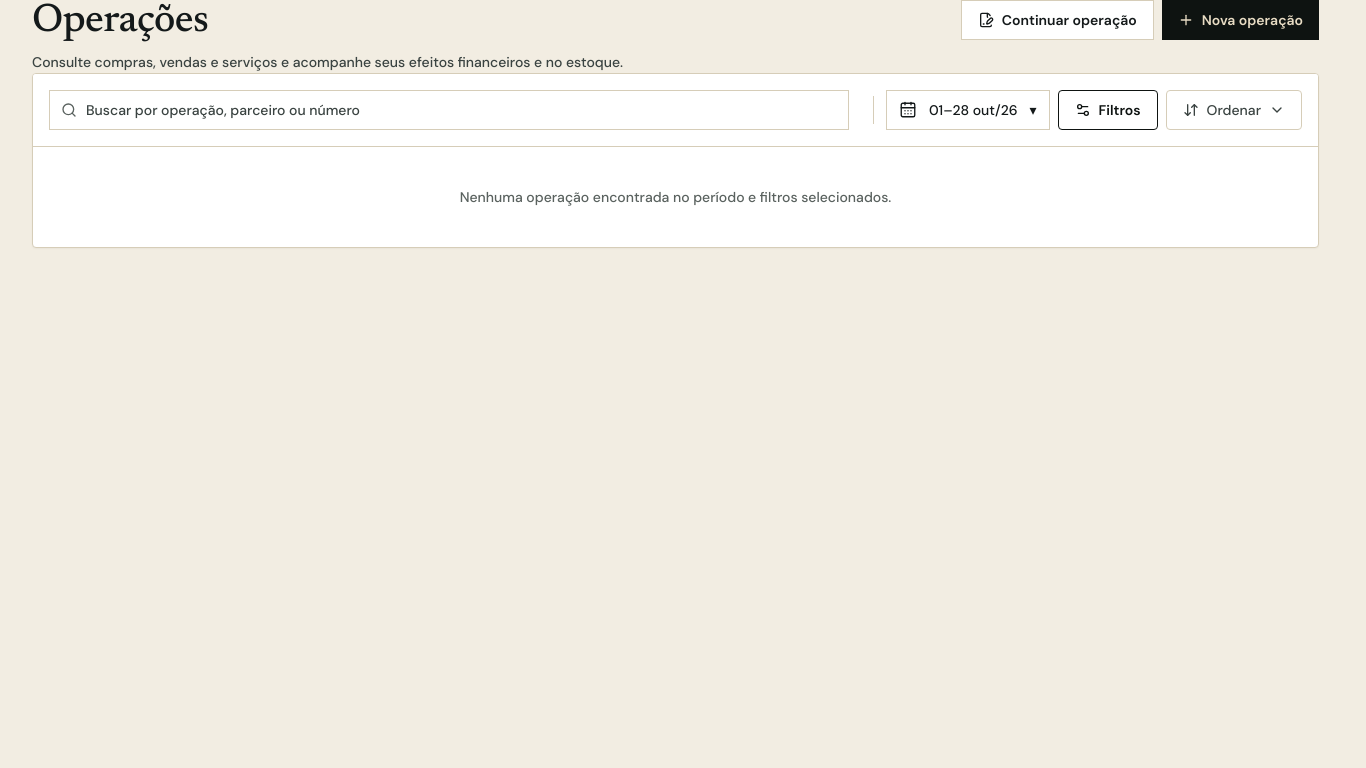
Test: OperacoesFinanceiras — filtro de efeito vindo da rastreabilidade › ignora um valor de efeito desconhecido e mantém 'Todos os impactos'
Click the button "Filtros": {"x": 1108, "y": 110} [1058,90,1158,130]
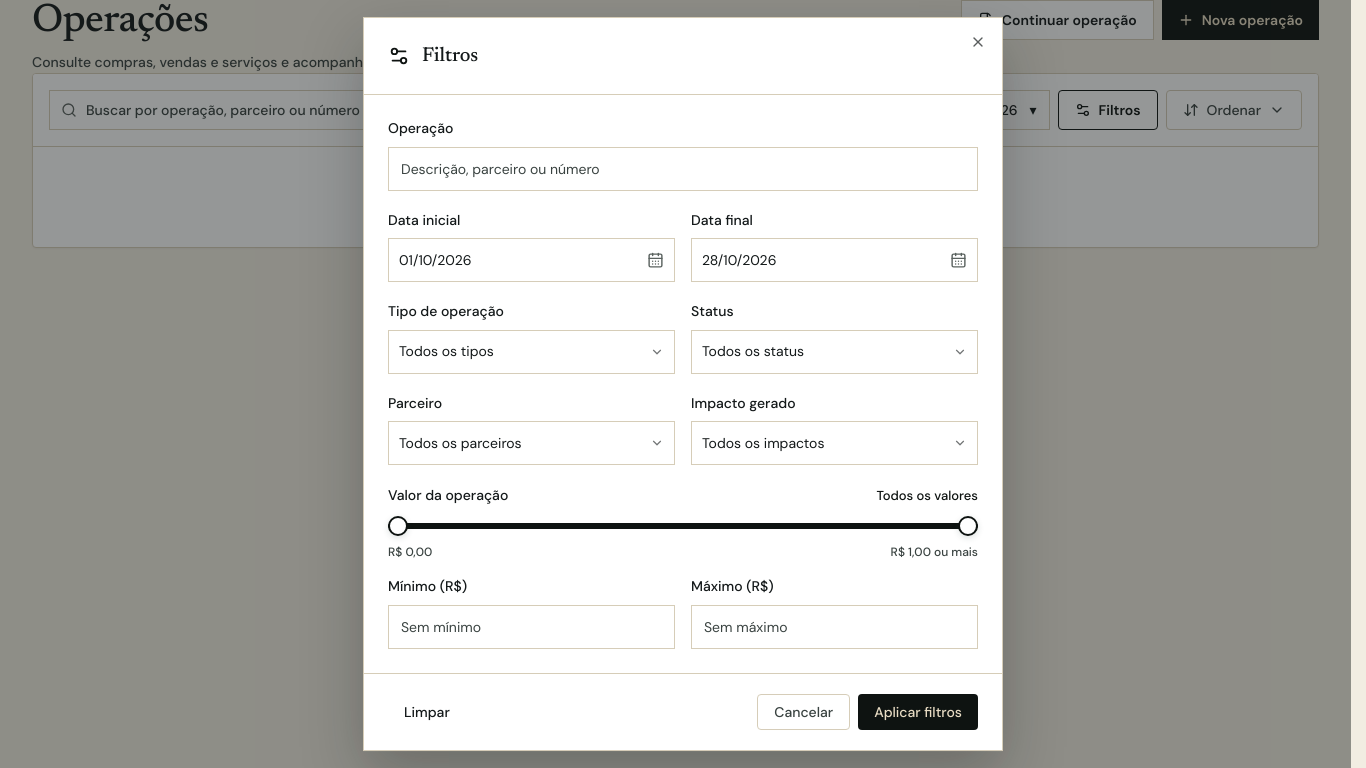
Check: the dropdown named "Filtrar por impacto gerado" holds "TODOS", box [691,421,978,465]
